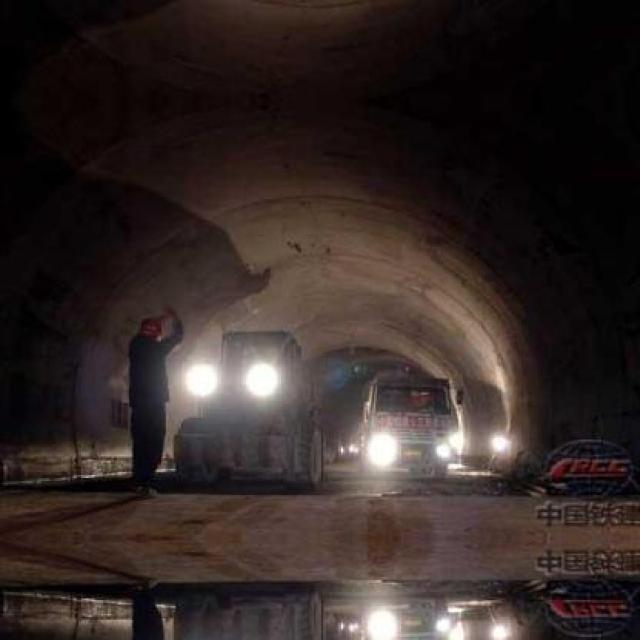helmet: (135, 315, 167, 344)
